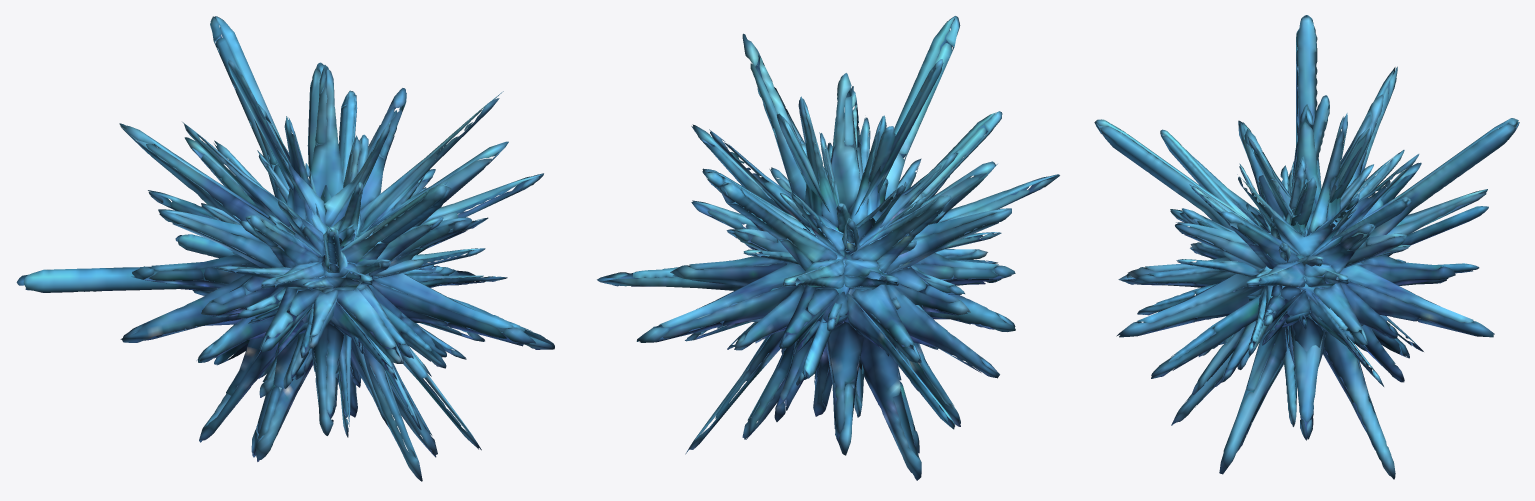
The model's file is TiberiumAzul.FBX.
The picture shows the model from 3 angles, left to right: view 1: azimuth 30°, elevation 25°; view 2: azimuth 150°, elevation 25°; view 3: azimuth 270°, elevation 25°; orthographic projection. The views are drawn at different scales.
Visible parts, largest first — view 1: GeoSphere02, GeoSphere03; view 2: GeoSphere02, GeoSphere03; view 3: GeoSphere02, GeoSphere03.
Boxes of the visible parts, x1,y1,x2,y2 form: GeoSphere02: (16,16,554,481); GeoSphere03: (175,90,507,437); GeoSphere02: (597,16,1059,480); GeoSphere03: (704,86,1002,417); GeoSphere02: (1094,15,1519,479); GeoSphere03: (1132,95,1479,426).
Size of the model in its own units: 220829 by 214192 by 209975.
1 material, 1 textured.
